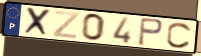0: (80, 13, 109, 42)
4: (111, 16, 133, 45)
C: (165, 21, 194, 50)
P: (137, 17, 165, 47)
X: (22, 6, 53, 38)
Z: (52, 10, 80, 40)
